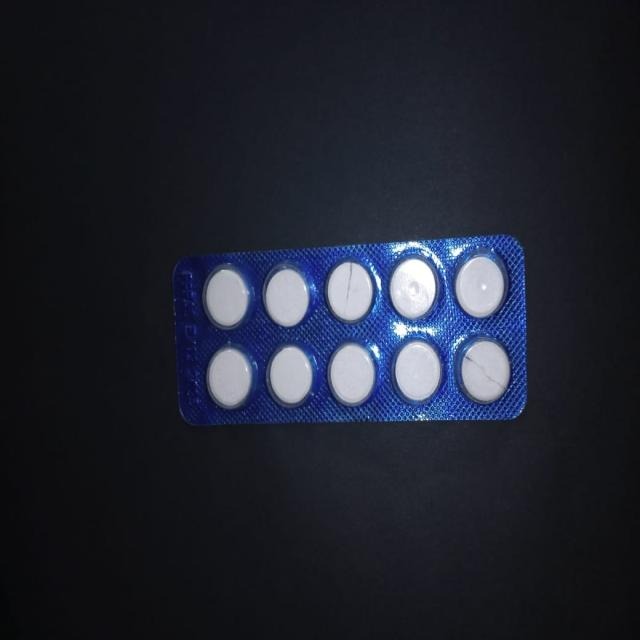defect: (453, 333, 515, 409), (321, 258, 380, 326)
